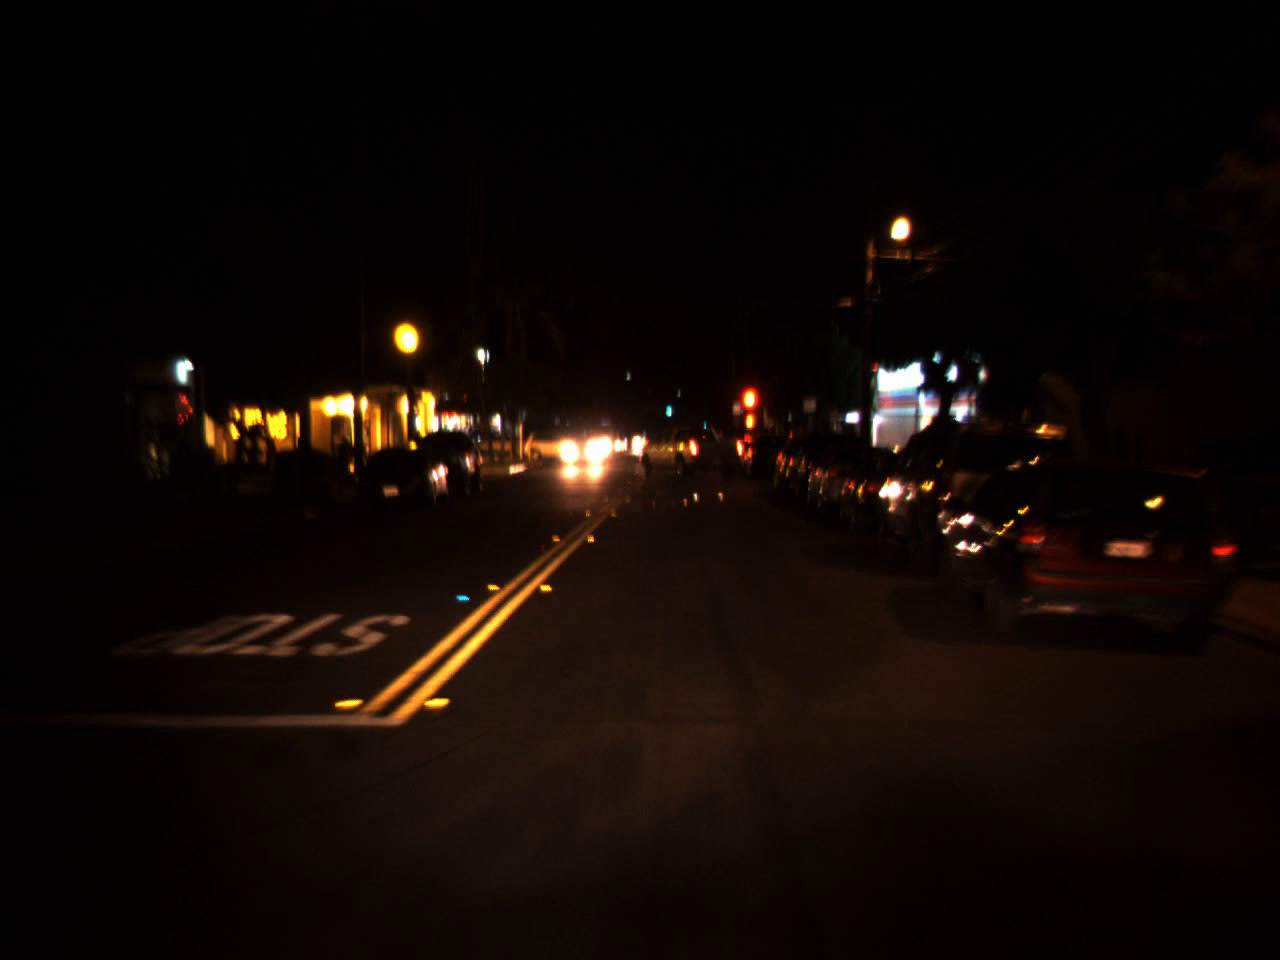go: (663, 398, 672, 416)
stop: (738, 382, 762, 441)
